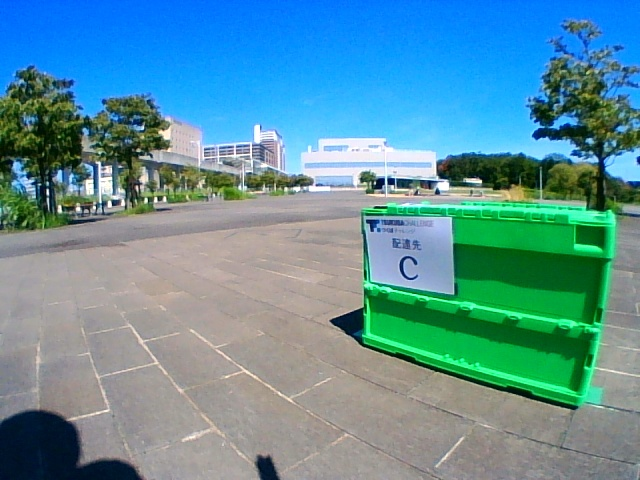green_box: (361, 202, 616, 407)
tag_c: (370, 218, 452, 282)
